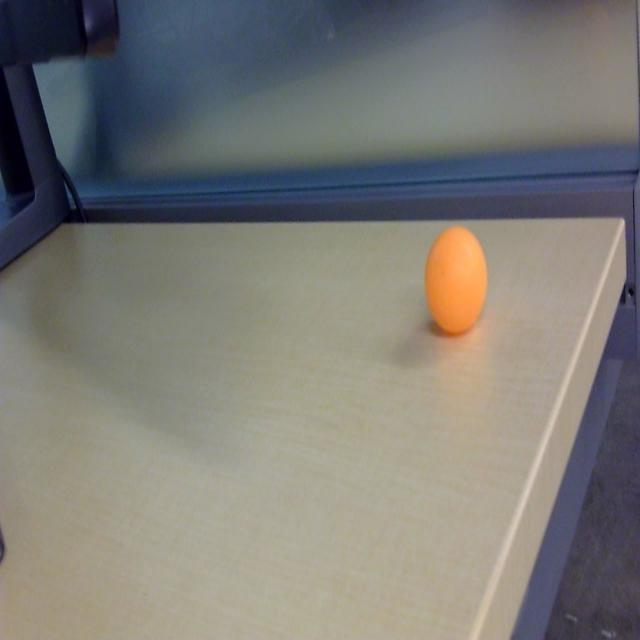ball: (424, 222, 488, 336)
